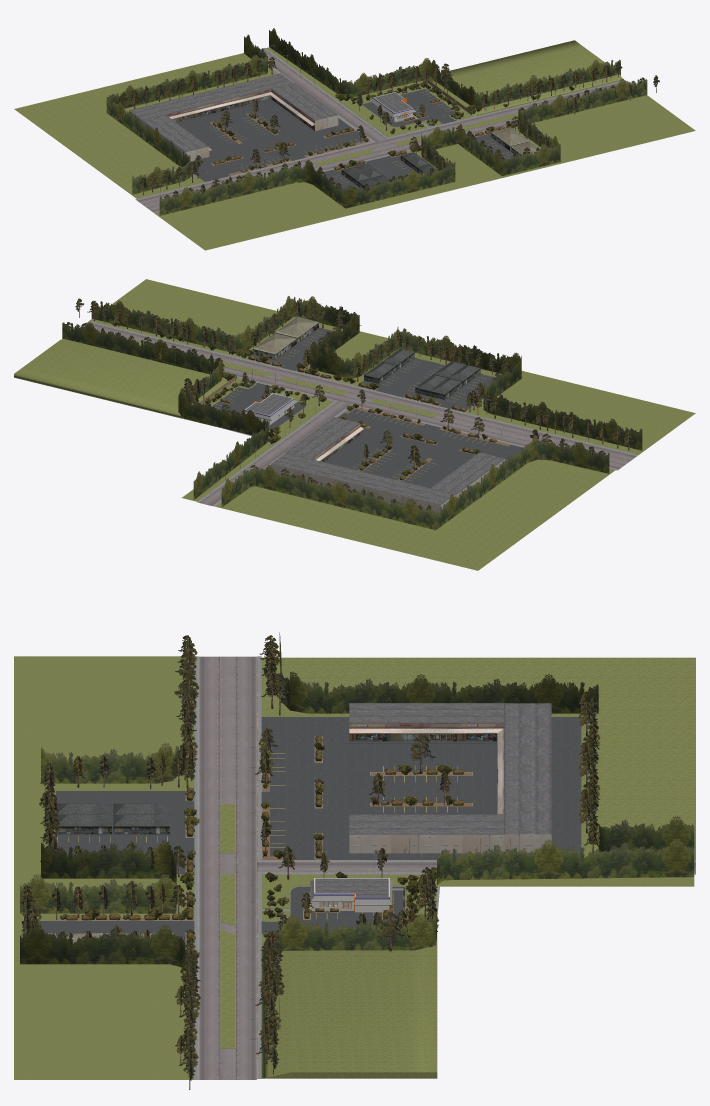
File: burgerpiz.glb
The picture shows the model from 3 angles, top to bottom: view 1: azimuth 30°, elevation 25°; view 2: azimuth 150°, elevation 25°; view 3: azimuth 270°, elevation 25°; orthographic projection. The views are drawn at different scales.
Parts seen in each view (by area): view 1: sidewalk.001, Background, Grass, garden, Building, Building.001, Building.002, Building.003, AsphaltDamaged, BurgerPiz, Building_01, sidewalk.018; view 2: sidewalk.001, Background, Grass, Building.002, garden, Building.001, Building, Building.003, AsphaltDamaged, BurgerPiz, Building_01, Building_01.001; view 3: sidewalk.001, Background, Grass, Building, Building.003, garden, Building.001, Building.002, AsphaltDamaged, BurgerPiz, Building_02.002, Building_02.003.
Boxes of the visible parts, x1=… form: sidewalk.001: x1=14, y1=48, x2=695, y2=250; Background: x1=106, y1=28, x2=647, y2=215; Grass: x1=427, y1=40, x2=622, y2=116; garden: x1=266, y1=47, x2=473, y2=137; Building: x1=270, y1=83, x2=338, y2=130; Building.001: x1=205, y1=73, x2=293, y2=111; Building.002: x1=129, y1=92, x2=219, y2=123; Building.003: x1=142, y1=115, x2=211, y2=161; AsphaltDamaged: x1=362, y1=89, x2=456, y2=127; BurgerPiz: x1=373, y1=92, x2=413, y2=121; Building_01: x1=490, y1=127, x2=529, y2=150; sidewalk.018: x1=176, y1=99, x2=339, y2=162; sidewalk.001: x1=82, y1=279, x2=695, y2=570; Background: x1=62, y1=296, x2=642, y2=530; Grass: x1=14, y1=339, x2=237, y2=418; Building.002: x1=355, y1=473, x2=455, y2=513; garden: x1=182, y1=378, x2=333, y2=501; Building.001: x1=271, y1=453, x2=370, y2=493; Building: x1=285, y1=417, x2=363, y2=461; Building.003: x1=431, y1=452, x2=505, y2=498; AsphaltDamaged: x1=212, y1=382, x2=306, y2=430; BurgerPiz: x1=244, y1=393, x2=293, y2=424; Building_01: x1=252, y1=333, x2=296, y2=359; Building_01.001: x1=275, y1=317, x2=318, y2=343; sidewalk.001: x1=14, y1=656, x2=695, y2=1079; Background: x1=20, y1=632, x2=694, y2=1051; Grass: x1=261, y1=945, x2=437, y2=1078; Building: x1=349, y1=814, x2=504, y2=853; Building.003: x1=349, y1=703, x2=503, y2=741; garden: x1=261, y1=874, x2=694, y2=948; Building.001: x1=497, y1=769, x2=551, y2=852; Building.002: x1=497, y1=703, x2=551, y2=776; AsphaltDamaged: x1=261, y1=886, x2=405, y2=933; BurgerPiz: x1=314, y1=878, x2=389, y2=912; Building_02.002: x1=113, y1=814, x2=169, y2=834; Building_02.003: x1=55, y1=814, x2=111, y2=834.
Bounding box in the file's own units: 407 × 26.9 × 270.
Materials: 73 (65 with a texture image).
